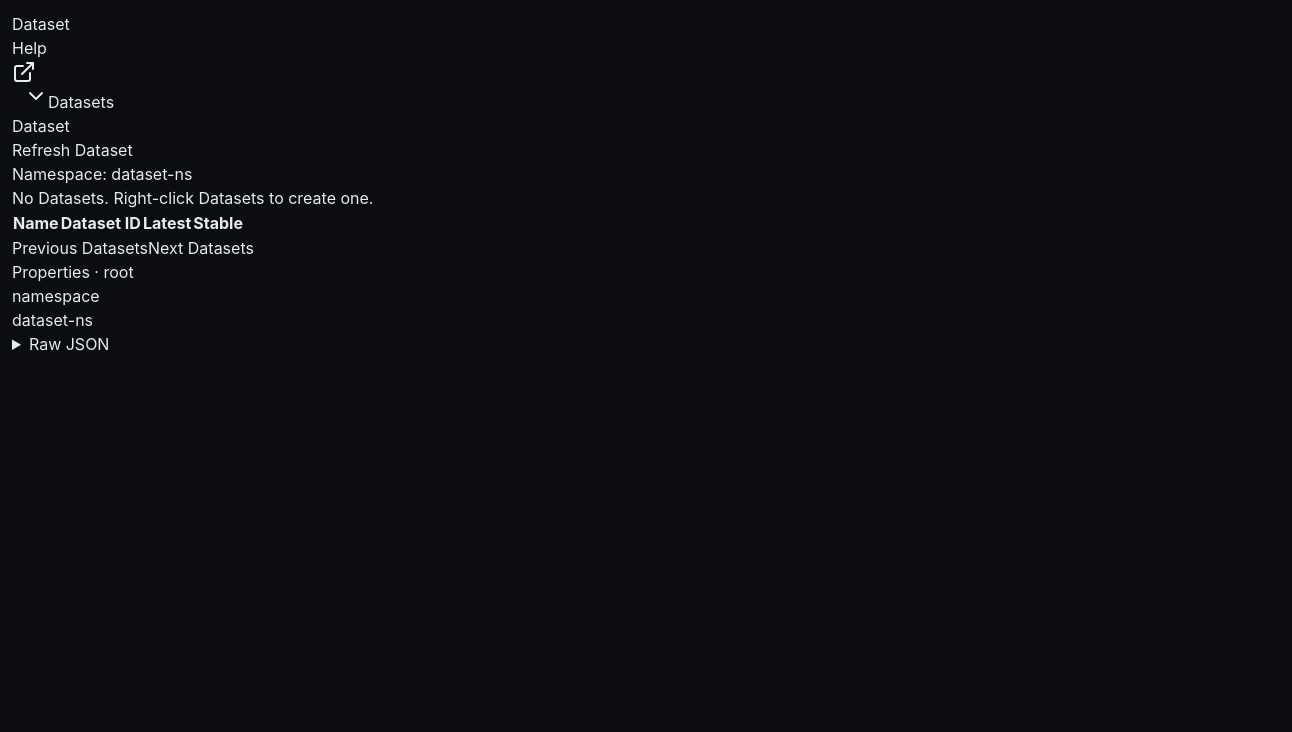
Test: creates through the parent menu and keeps resource operations out of the center toolbar
Right-click the button "Datasets": (81, 102) [48, 90, 114, 114]
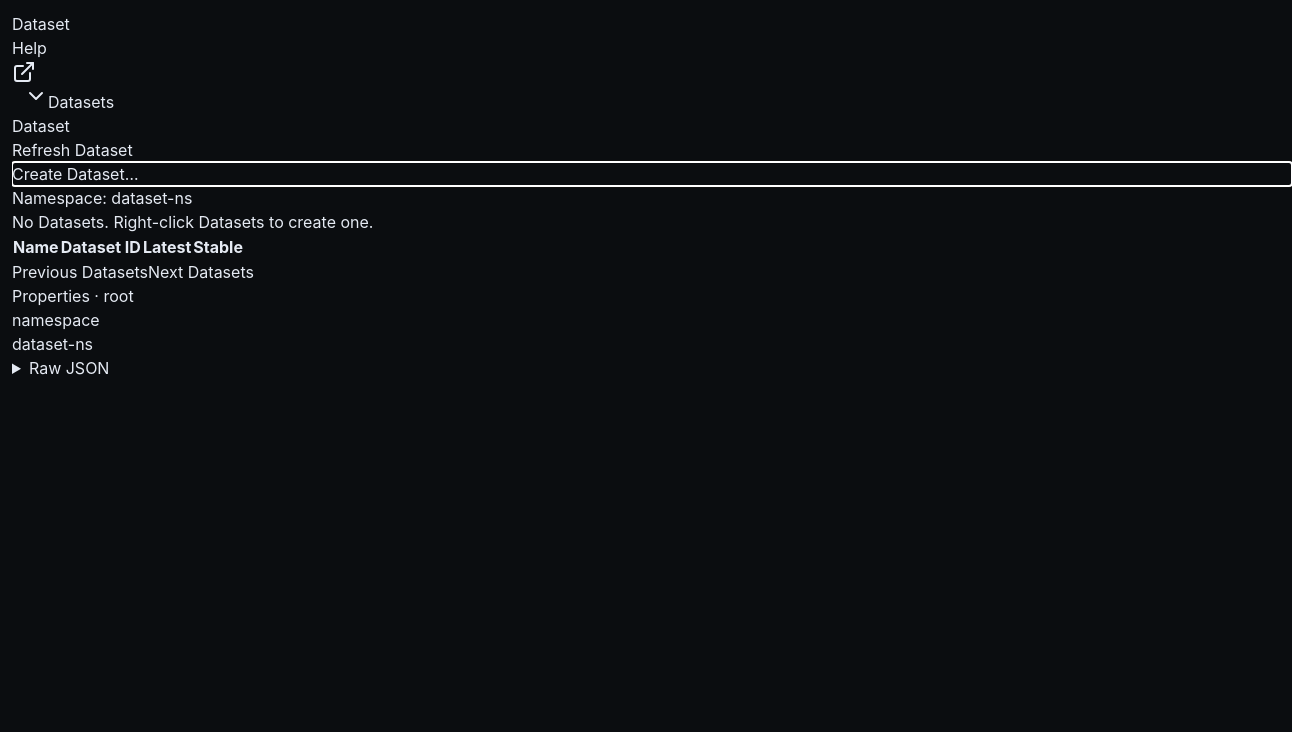
Click the menu item "Create Dataset…": (75, 174) [12, 162, 138, 186]
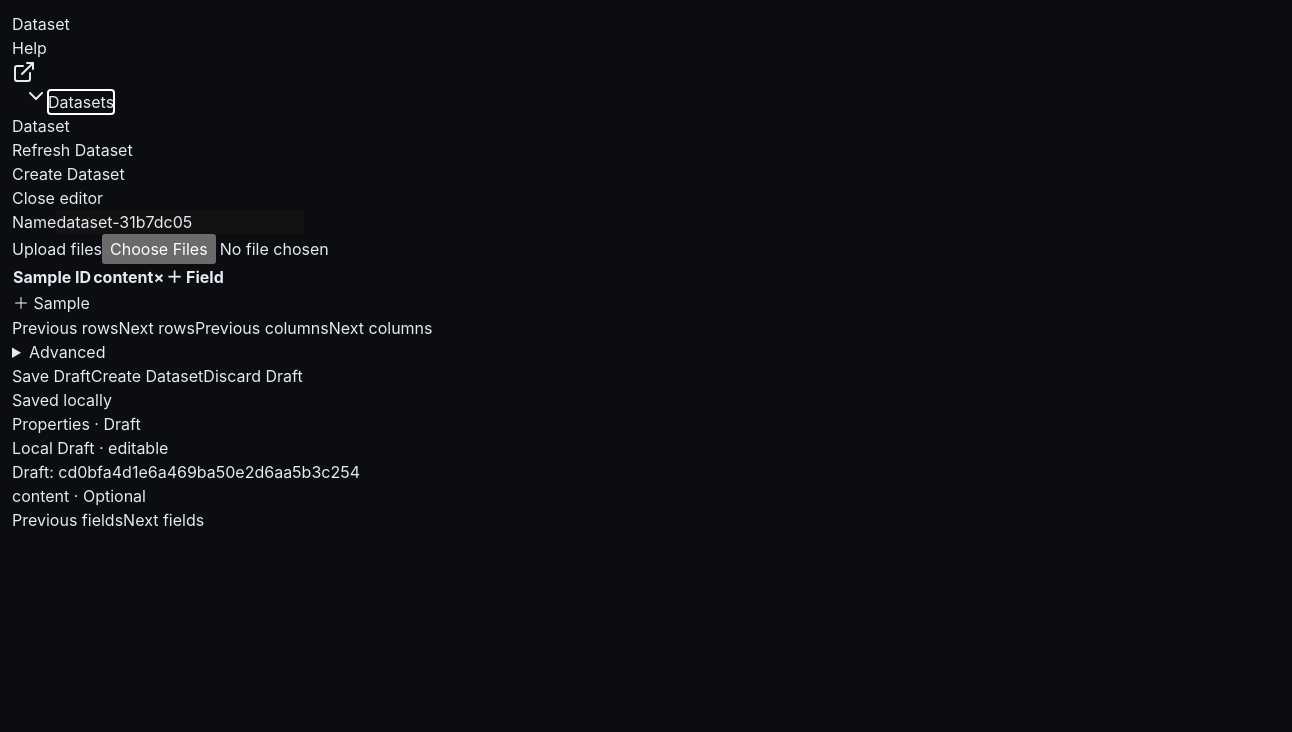
Expected: the button "Create Dataset" is enabled
Expected: the table named "Snapshot editor table" is shown, [12, 264, 225, 316]
Expected: the element named "Add Sample" is shown, [13, 291, 90, 315]
Click the button "Create Dataset": (147, 376) [91, 364, 203, 388]
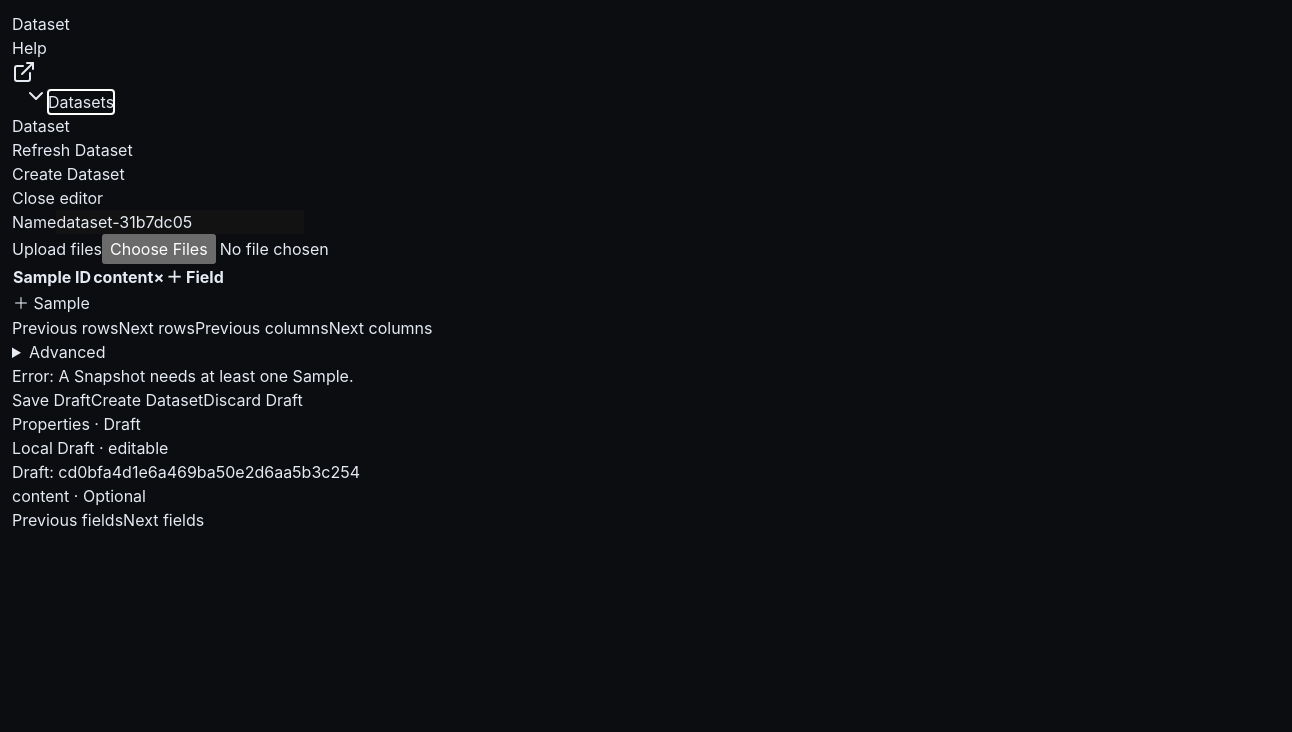
Expected: the file field named "Local payload files" is shown, [102, 234, 446, 264]
Expected: the message shows "at least one Sample", [12, 366, 354, 386]
